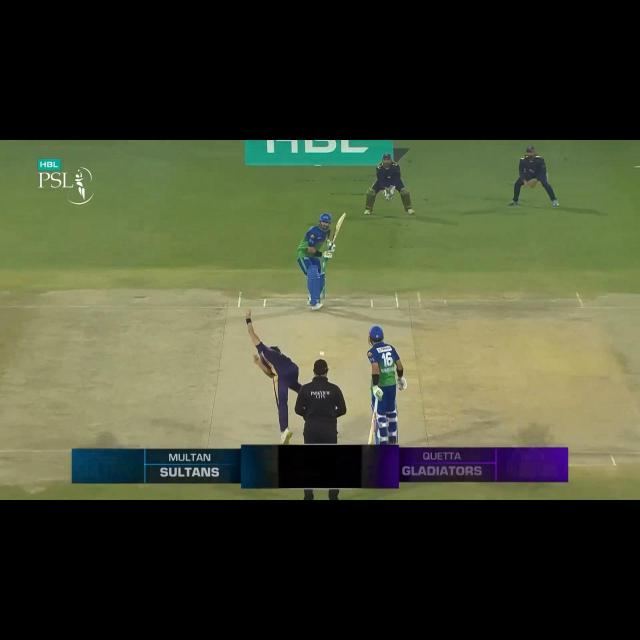bat: (330, 211, 348, 246), (367, 416, 377, 444)
toe: (338, 211, 348, 222)
